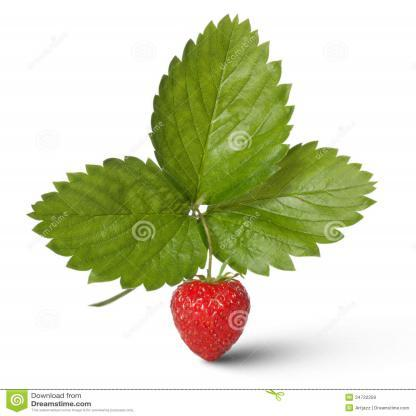Strawberry leaf: (147, 0, 300, 211), (26, 146, 210, 292), (200, 137, 381, 281)
